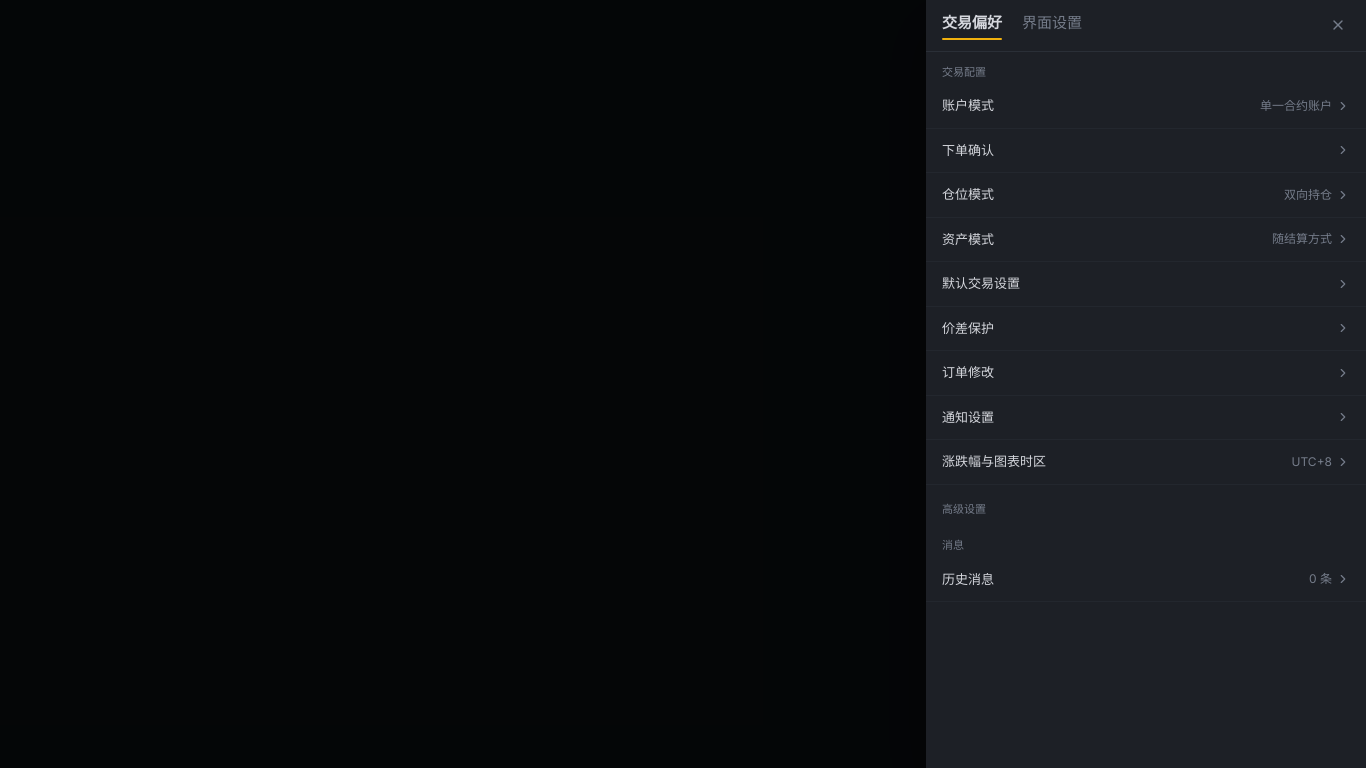
Test: TradingPreferencesDrawer › 杠杆页写明全仓仍会被硬阻断——设置不得与硬约束互相矛盾
Click the button "默认交易设置" at [981, 283], box [926,262,1365,306]
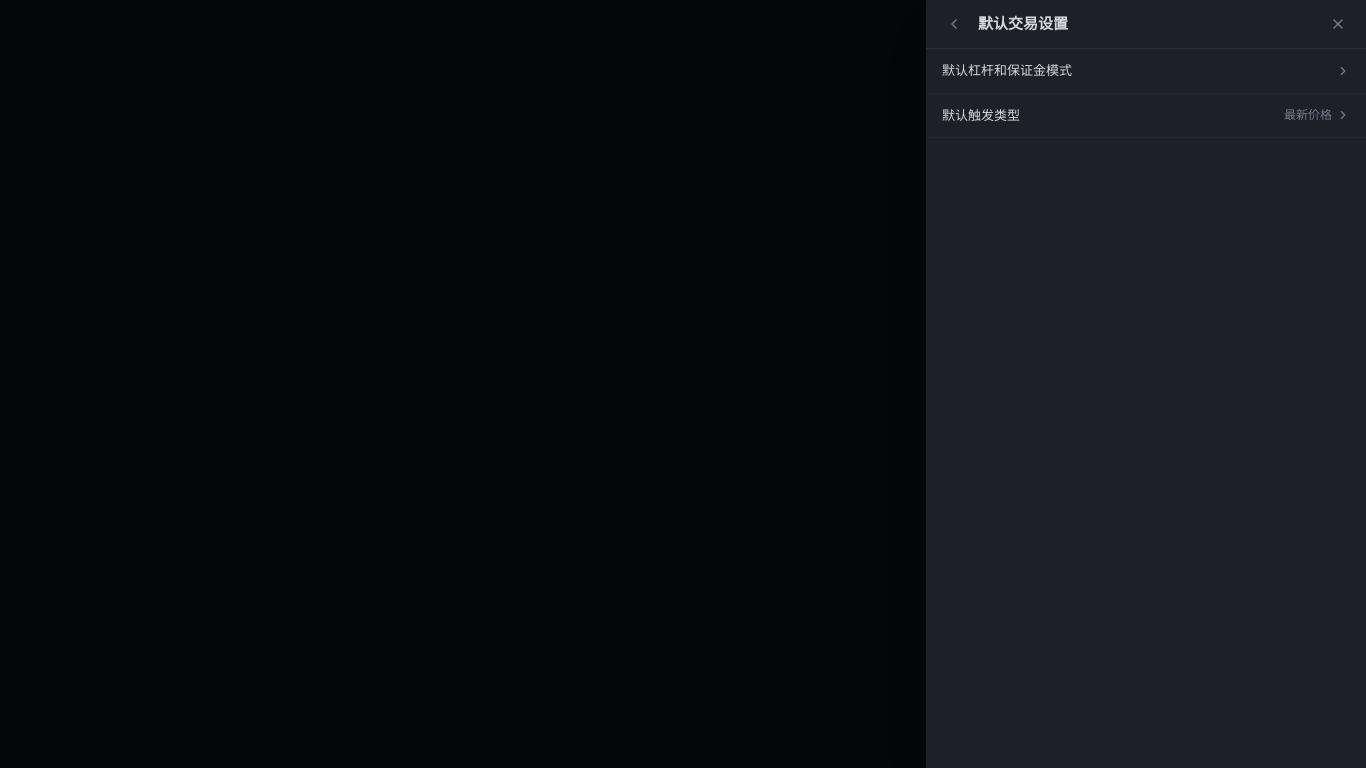
Click the button "默认杠杆和保证金模式" at [1007, 70], box [926,49,1365,94]
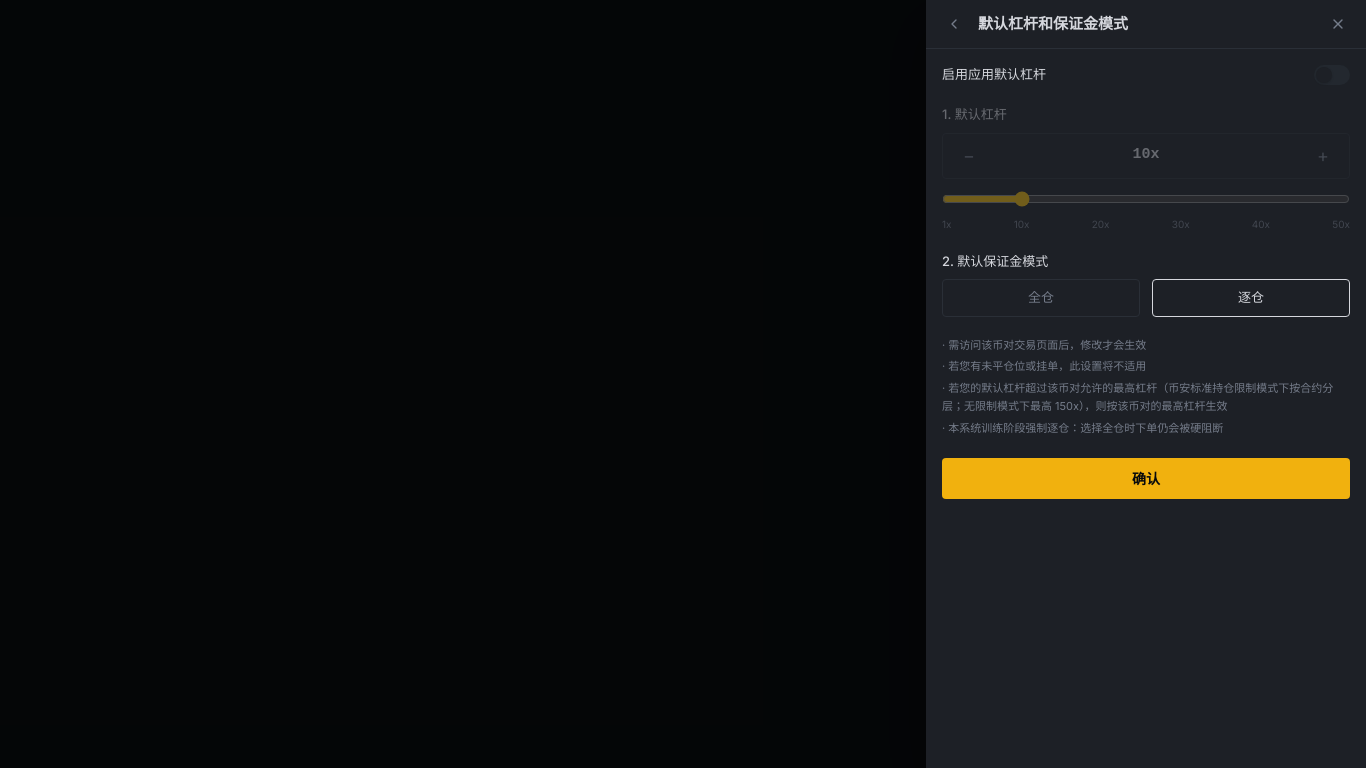
Expected: the list item "· 本系统训练阶段强制逐仓：选择全仓时下单仍会被硬阻断" is shown, [942,421,1223,435]
